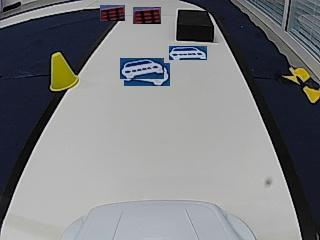block: (176, 9, 215, 42)
cone: (51, 54, 80, 91)
